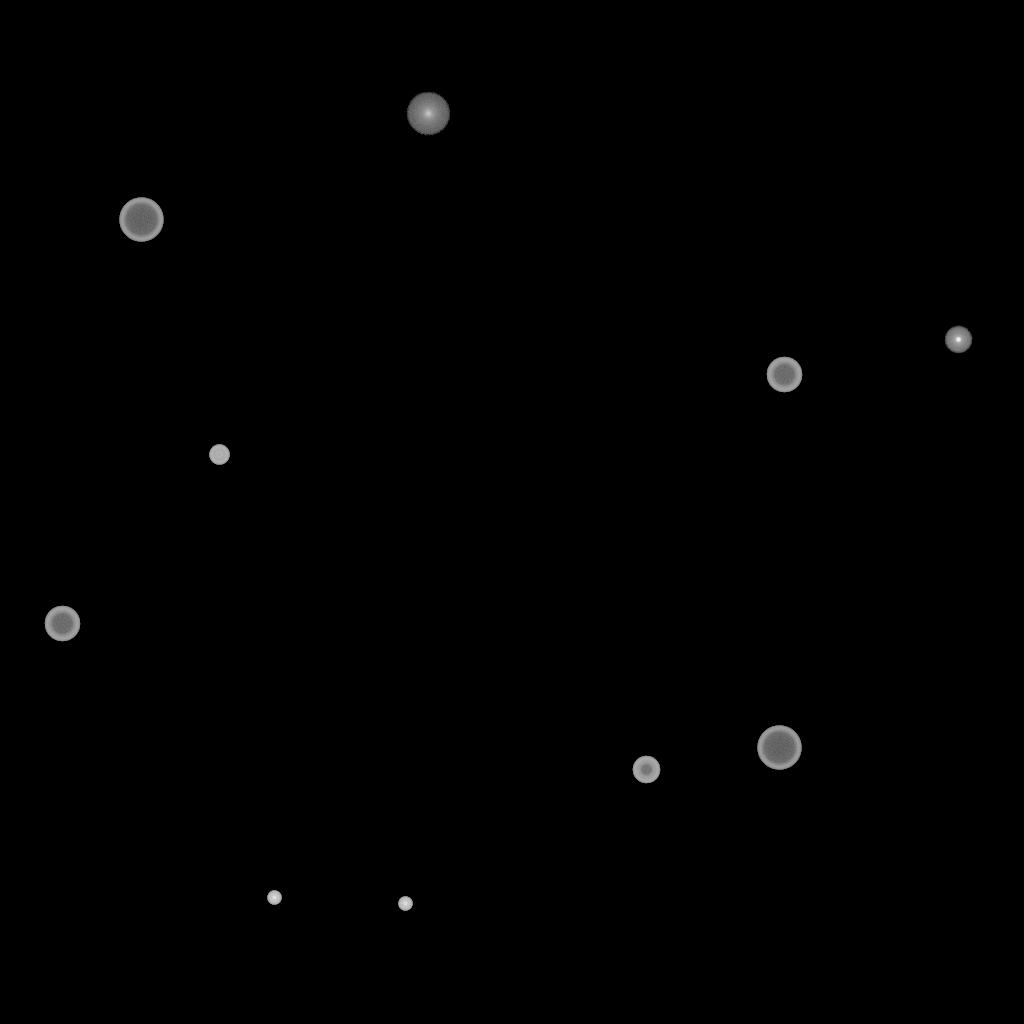depth:-10: (944, 326, 972, 354)
depth:-30: (398, 897, 412, 911), (267, 891, 281, 905)
depth:-40: (209, 445, 229, 465)
depth:-50: (632, 756, 660, 784)
depth:-60: (766, 357, 802, 393), (44, 606, 80, 642)
depth:-70: (119, 198, 163, 242), (757, 726, 801, 770)
depth:10: (406, 92, 450, 136)
